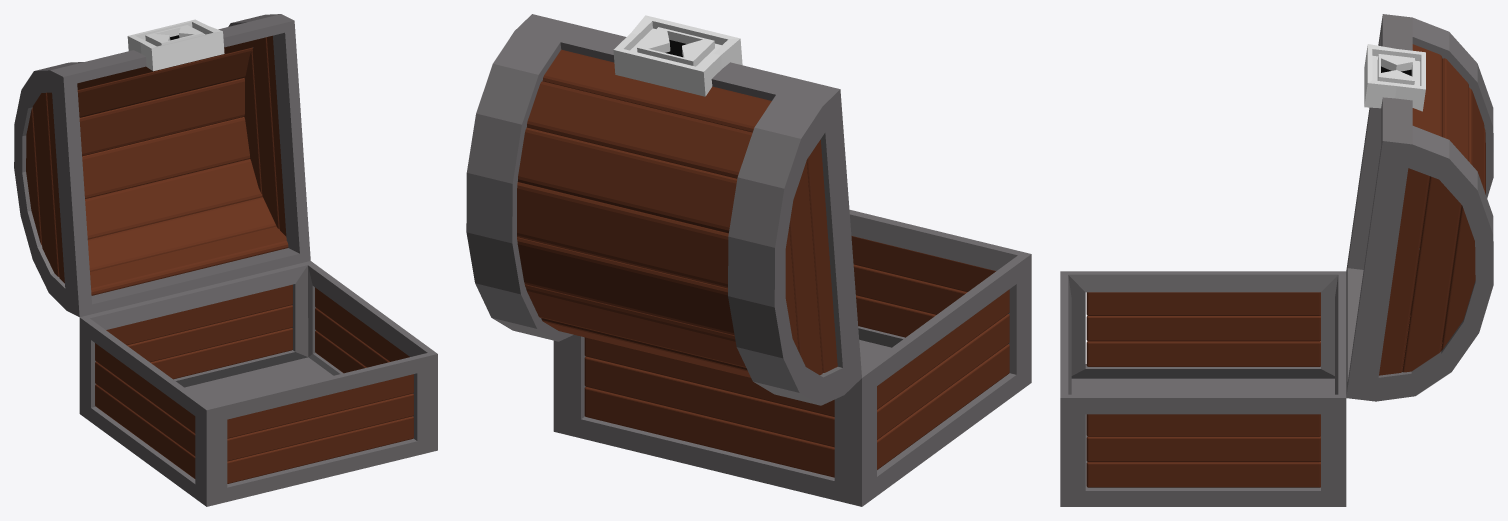
The model's file is Cofre-Anim.fbx.
3 views of the same model, side by side, from view 1: azimuth 30°, elevation 25°; view 2: azimuth 150°, elevation 25°; view 3: azimuth 270°, elevation 25° (orthographic). The views are drawn at different scales.
Visible parts, largest first — view 1: Cylinder.002, Cylinder; view 2: Cylinder.002, Cylinder; view 3: Cylinder, Cylinder.002.
Part boxes in pixels (box(x1,y1,x2,y2)): Cylinder.002: box(14, 14, 310, 317); Cylinder: box(79, 261, 437, 506); Cylinder.002: box(466, 14, 861, 405); Cylinder: box(553, 210, 1031, 506); Cylinder: box(1060, 271, 1346, 506); Cylinder.002: box(1346, 14, 1493, 401).
Size of the model in its own units: 60 by 83.92 by 86.58.
